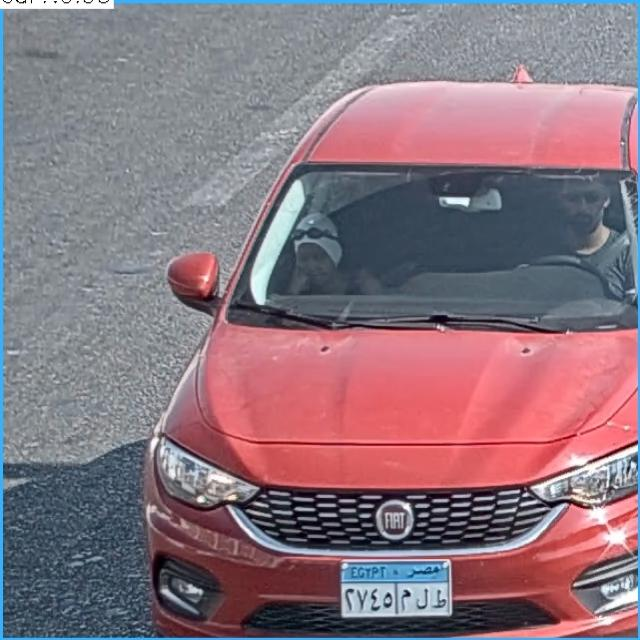windshield: (244, 165, 635, 326)
